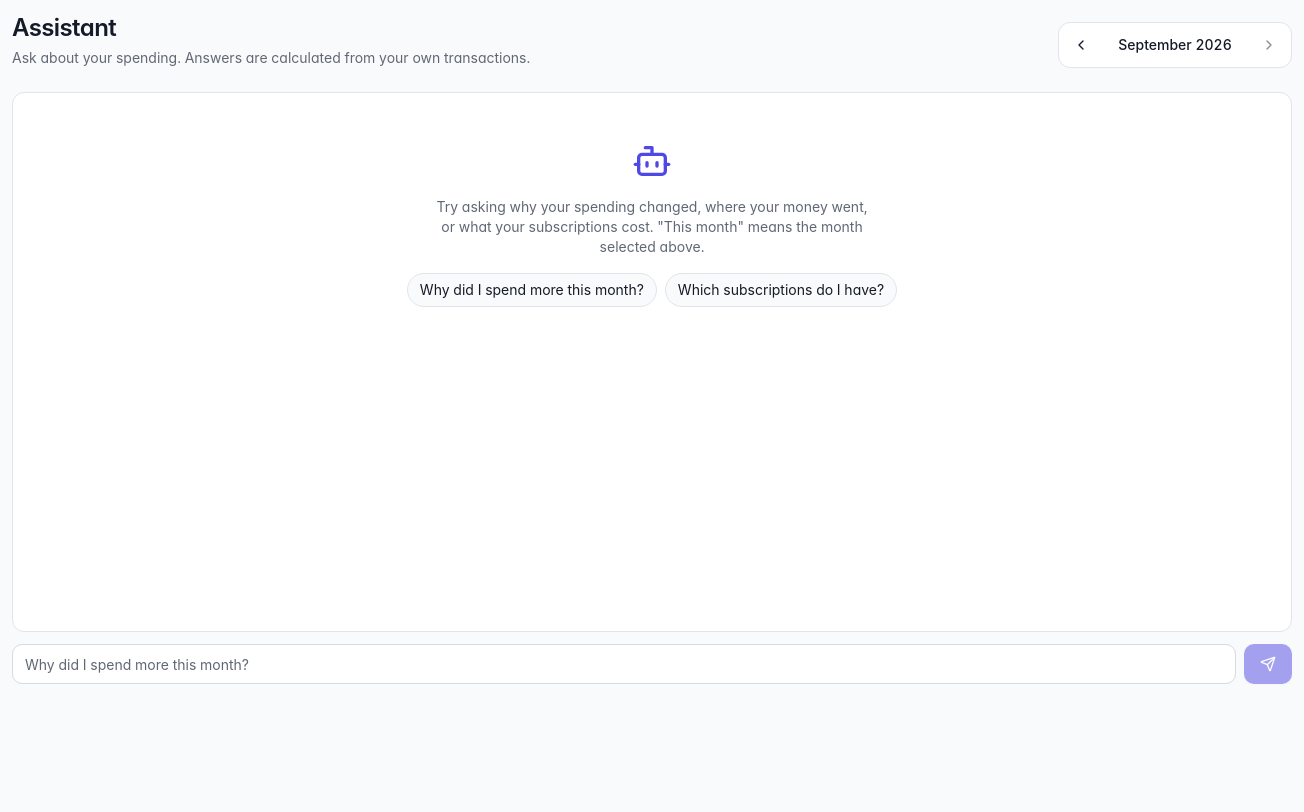
AssistantPage › sends typed questions and follow-ups, and shows errors
The width and height of the screenshot is (1304, 812).
Check: the button named "Send" is disabled, box [1244,644,1292,684]
In the field named "Your question": (624,664) [12,644,1236,684], type "Why did I spend more?"
Then press Enter
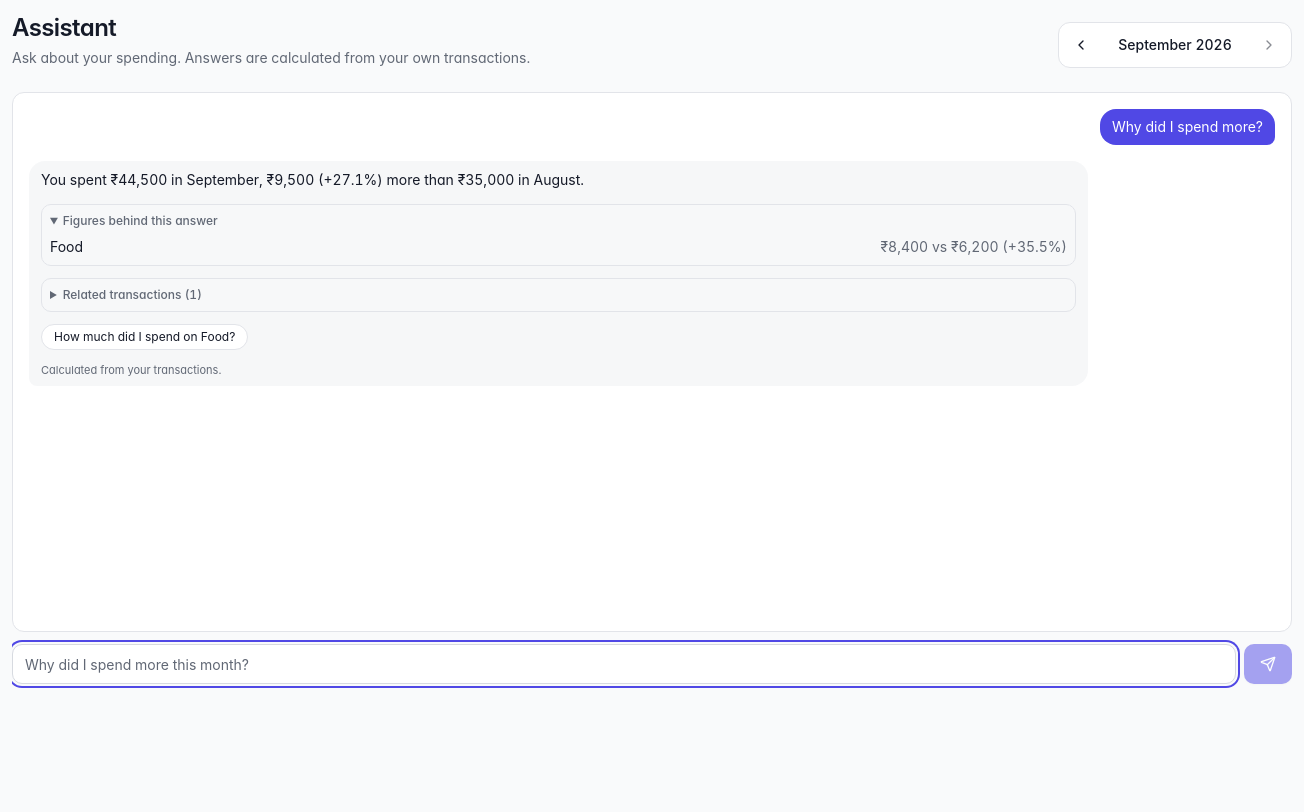
Click the button "How much did I spend on Food?": (145,337) [41,324,248,350]
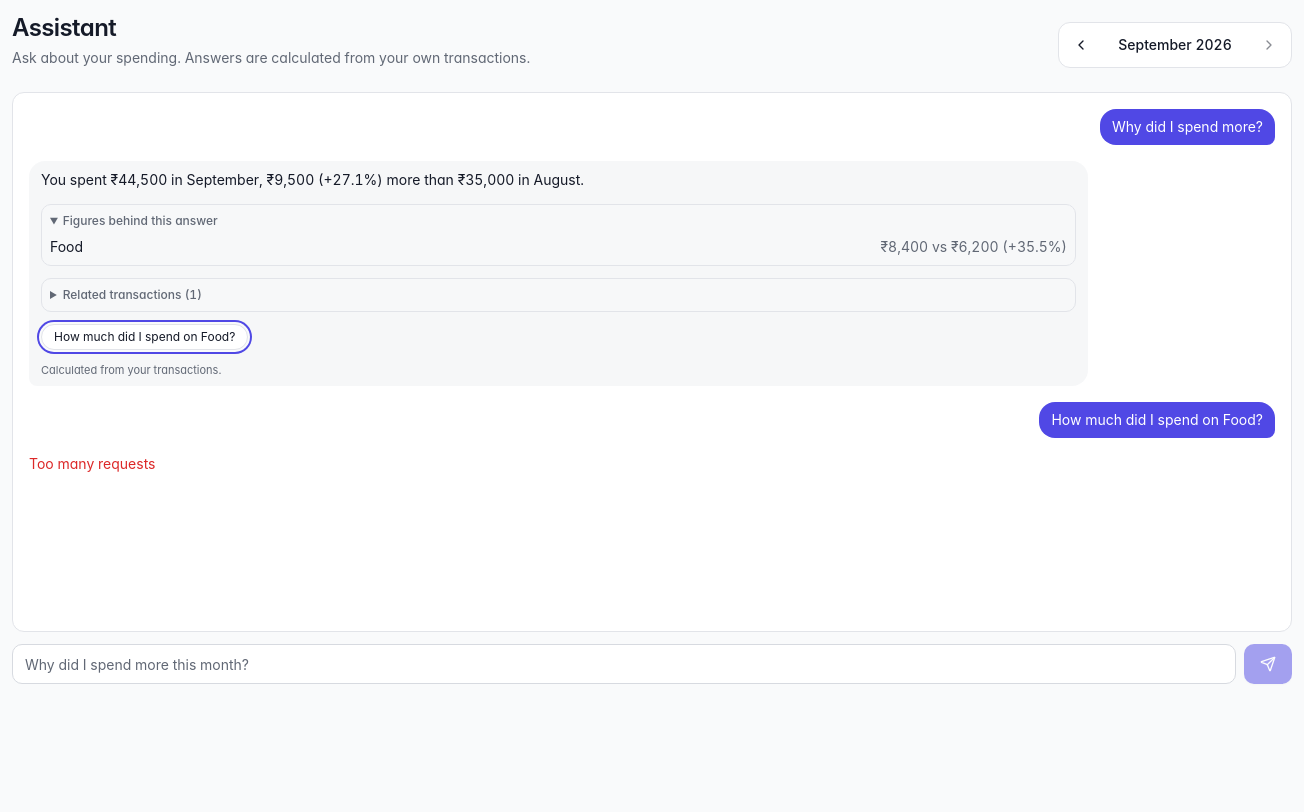
Check: the message reads "Too many requests", box [29,455,156,472]
